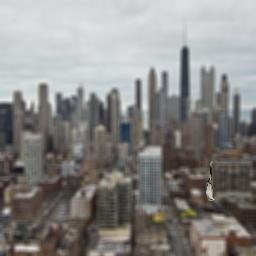Cuckoo: (206, 161, 215, 201)
